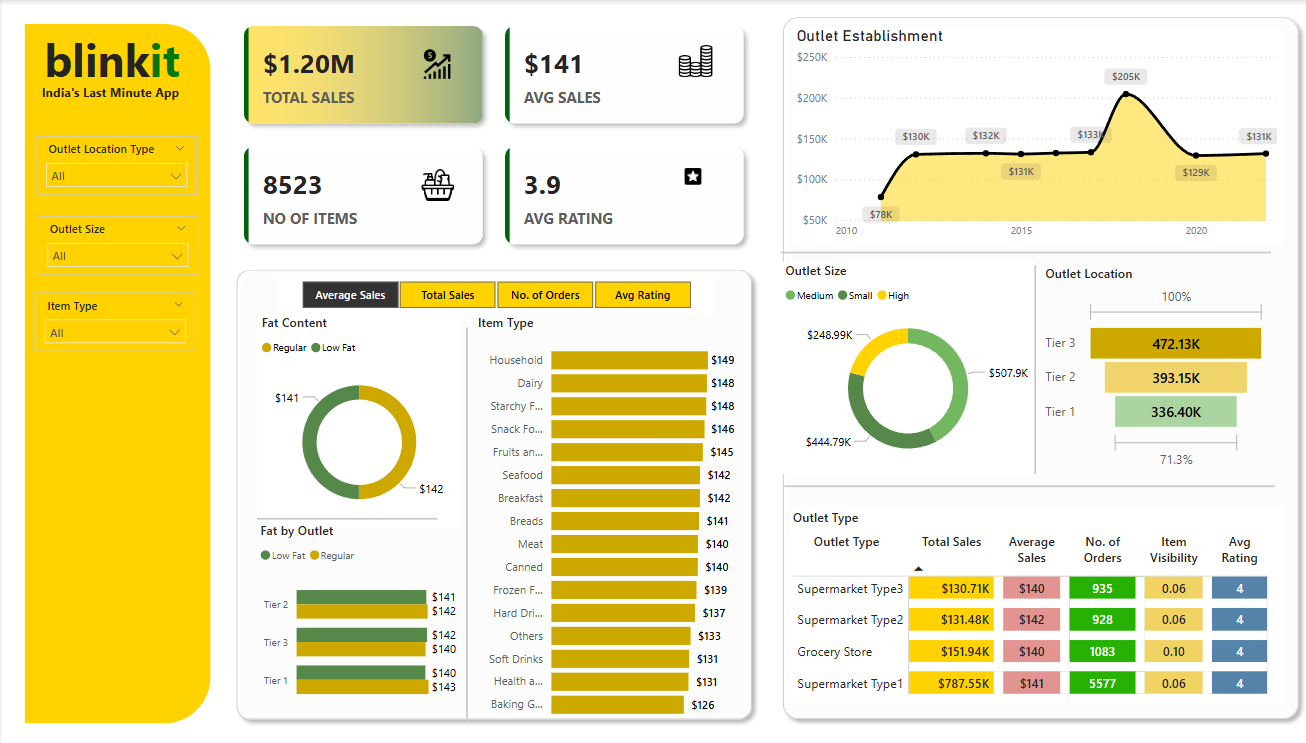

This screenshot's page, from the dashboard's own definition file:
{"tool":"powerbi","page":{"name":"Page 1","canvas":[1400,800],"ordinal":0},"visuals":[{"type":"shape","box":[24,25.5,199.6,750.4],"z":0},{"type":"textbox","box":[40.5,25.5,166.6,78],"z":1000},{"type":"textbox","box":[37.5,84,169.6,39],"z":2000},{"type":"cardVisual","fields":{"Data":["BlinkIT Grocery Data.Total Sales","BlinkIT Grocery Data.Average Sales","BlinkIT Grocery Data.No. of Orders","BlinkIT Grocery Data.Avg Rating"]},"box":[243.2,10.9,570.6,269.7],"z":3000},{"type":"shape","box":[243.2,280.6,570.6,500.4],"z":4000},{"type":"donutChart","title":"Fat Content","fields":{"Y":["BlinkIT Grocery Data.Average Sales"],"Category":["BlinkIT Grocery Data.Item Fat Content"]},"box":[272.8,336.7,219.8,230.7],"z":5000},{"type":"slicer","fields":{"Values":["mETRICS.mETRICS"]},"box":[296.2,294.7,466.1,42.1],"z":6000},{"type":"clusteredBarChart","title":"Fat by Outlet","fields":{"Y":["BlinkIT Grocery Data.Average Sales"],"Category":["BlinkIT Grocery Data.Outlet Location Type"],"Series":["BlinkIT Grocery Data.Item Fat Content"]},"box":[272.2,559.2,219.9,207.9],"z":7000},{"type":"shape","box":[272.8,531.6,193.3,48.3],"z":8000},{"type":"shape","box":[1099.2,284.2,10.7,185],"z":9000},{"type":"barChart","title":"Item Type","fields":{"Y":["BlinkIT Grocery Data.Average Sales"],"Category":["BlinkIT Grocery Data.Item Type"]},"box":[505.1,336.7,285.3,444.3],"z":10000},{"type":"shape","box":[828.4,9.4,571,770.8],"z":11000},{"type":"lineChart","title":"Outlet Establishment","fields":{"Category":["BlinkIT Grocery Data.Outlet Establishment Year"],"Y":["BlinkIT Grocery Data.Total Sales"]},"box":[847.2,28.2,525.5,235.9],"z":12000},{"type":"shape","box":[835.1,246.7,525.5,48.3],"z":13000},{"type":"donutChart","title":"Outlet Size","fields":{"Y":["BlinkIT Grocery Data.Total Sales"],"Category":["BlinkIT Grocery Data.Outlet Size"]},"box":[835.1,280.2,273.5,227.9],"z":14000},{"type":"shape","box":[1101.9,284.2,12.1,223.9],"z":15000},{"type":"shape","box":[492,351.2,13.4,423.6],"z":16000},{"type":"funnel","title":"Outlet Location","fields":{"Y":["Sum(BlinkIT Grocery Data.Sales)"],"Category":["BlinkIT Grocery Data.Outlet Location Type"]},"box":[1113.9,284.2,246.7,223.9],"z":17000},{"type":"shape","box":[839.1,497.3,525.5,48.3],"z":18000},{"type":"pivotTable","title":"Outlet Type","fields":{"Rows":["BlinkIT Grocery Data.Outlet Type"],"Values":["BlinkIT Grocery Data.Total Sales","BlinkIT Grocery Data.Average Sales","BlinkIT Grocery Data.No. of Orders","Avg(BlinkIT Grocery Data.Item Visibility)","BlinkIT Grocery Data.Avg Rating"]},"box":[843.2,545.6,533.5,209.1],"z":19000},{"type":"slicer","fields":{"Values":["BlinkIT Grocery Data.Outlet Location Type"]},"box":[36.2,146.1,172.9,63],"z":20000},{"type":"slicer","fields":{"Values":["BlinkIT Grocery Data.Outlet Size"]},"box":[37.5,231.9,172.9,63],"z":21000},{"type":"slicer","fields":{"Values":["BlinkIT Grocery Data.Item Type"]},"box":[34.9,313.7,172.9,63],"z":22000}]}

Visuals, with their boxes in screenshot pixels (x1, y1, x2, y2), scaled from the page's 1400x800 canvas onto the 1306x743 screenshot:
shape: (left=22, top=24, right=209, bottom=721)
textbox: (left=38, top=24, right=193, bottom=96)
textbox: (left=35, top=78, right=193, bottom=114)
cardVisual - BlinkIT Grocery Data.Total Sales x BlinkIT Grocery Data.Average Sales: (left=227, top=10, right=759, bottom=261)
shape: (left=227, top=261, right=759, bottom=725)
"Fat Content" donutChart: (left=254, top=313, right=460, bottom=527)
slicer - mETRICS.mETRICS: (left=276, top=274, right=711, bottom=313)
"Fat by Outlet" clusteredBarChart: (left=254, top=519, right=459, bottom=712)
shape: (left=254, top=494, right=435, bottom=539)
shape: (left=1025, top=264, right=1035, bottom=436)
"Item Type" barChart: (left=471, top=313, right=737, bottom=725)
shape: (left=773, top=9, right=1305, bottom=725)
"Outlet Establishment" lineChart: (left=790, top=26, right=1281, bottom=245)
shape: (left=779, top=229, right=1269, bottom=274)
"Outlet Size" donutChart: (left=779, top=260, right=1034, bottom=472)
shape: (left=1028, top=264, right=1039, bottom=472)
shape: (left=459, top=326, right=471, bottom=720)
"Outlet Location" funnel: (left=1039, top=264, right=1269, bottom=472)
shape: (left=783, top=462, right=1273, bottom=507)
"Outlet Type" pivotTable: (left=787, top=507, right=1284, bottom=701)
slicer - BlinkIT Grocery Data.Outlet Location Type: (left=34, top=136, right=195, bottom=194)
slicer - BlinkIT Grocery Data.Outlet Size: (left=35, top=215, right=196, bottom=274)
slicer - BlinkIT Grocery Data.Item Type: (left=33, top=291, right=194, bottom=350)
